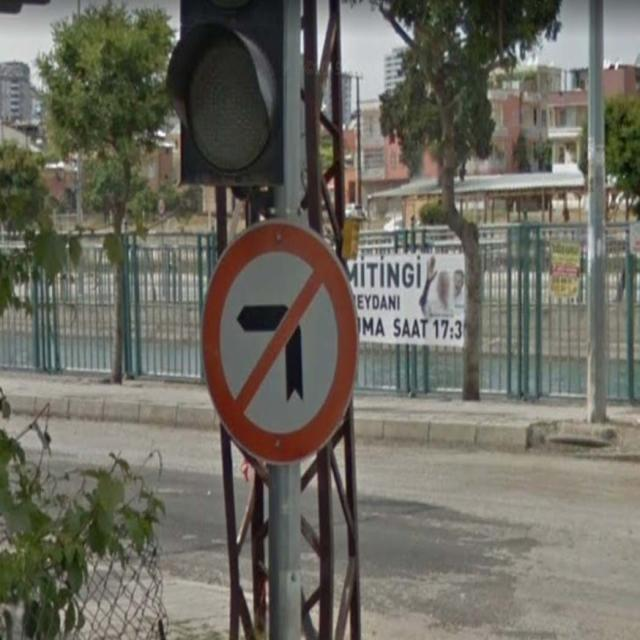soladonulmez: (200, 221, 358, 463)
